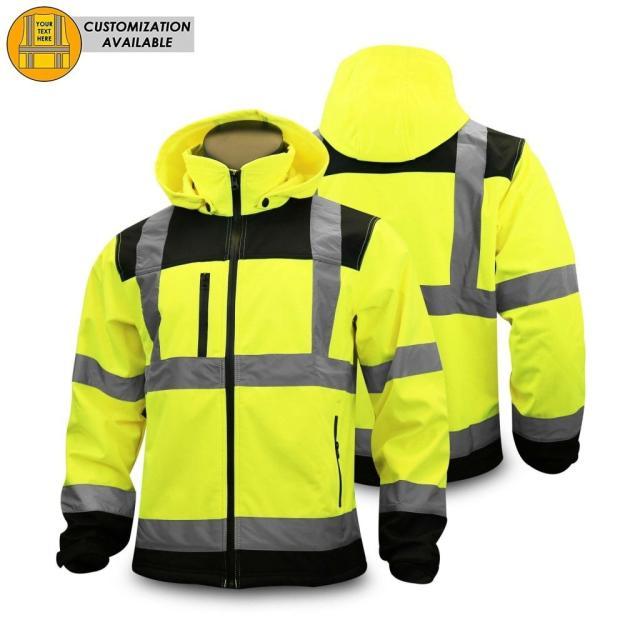Reflective-Jacket: (30, 100, 413, 612), (318, 41, 584, 486)
